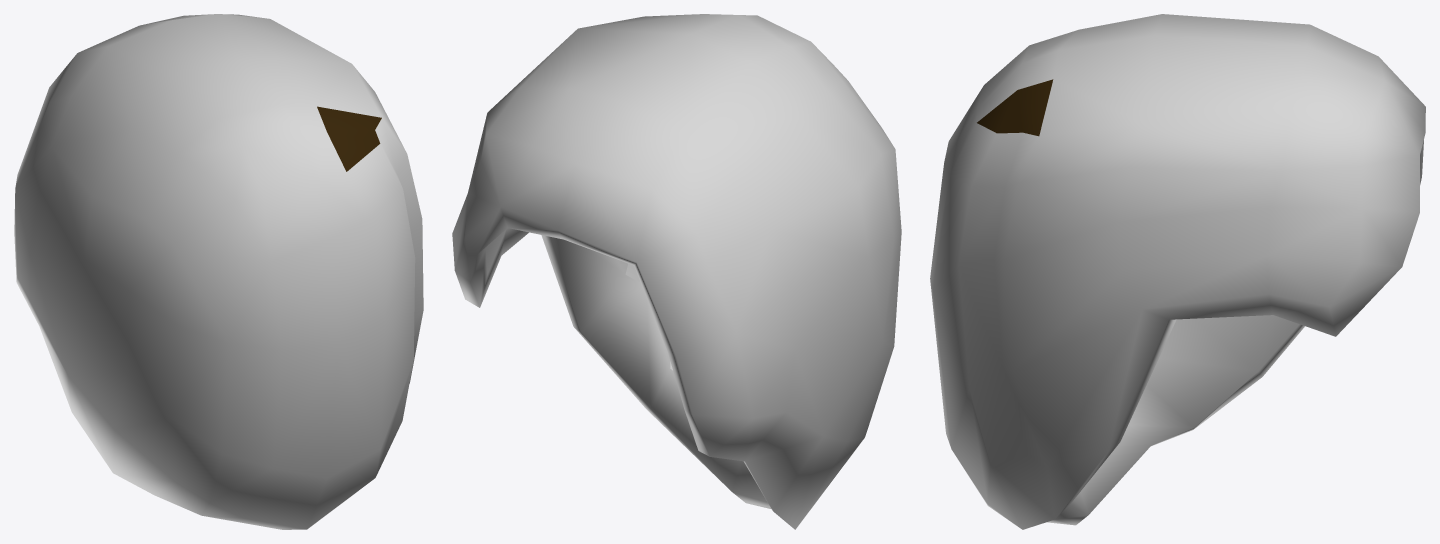
File: hair.fbx
3 views of the same model, side by side, from view 1: azimuth 30°, elevation 25°; view 2: azimuth 150°, elevation 25°; view 3: azimuth 270°, elevation 25° (orthographic). The views are drawn at different scales.
Parts seen in each view (by area): view 1: hair; view 2: hair; view 3: hair.
Boxes of the visible parts, x1=… form: hair: x1=14, y1=14, x2=423, y2=529; hair: x1=452, y1=14, x2=901, y2=529; hair: x1=930, y1=14, x2=1425, y2=529.
Size of the model in its own units: 0.1942 by 0.2719 by 0.2453.
